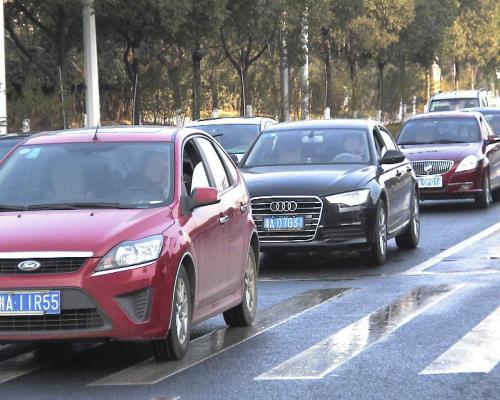Carplate: (260, 214, 307, 235)
